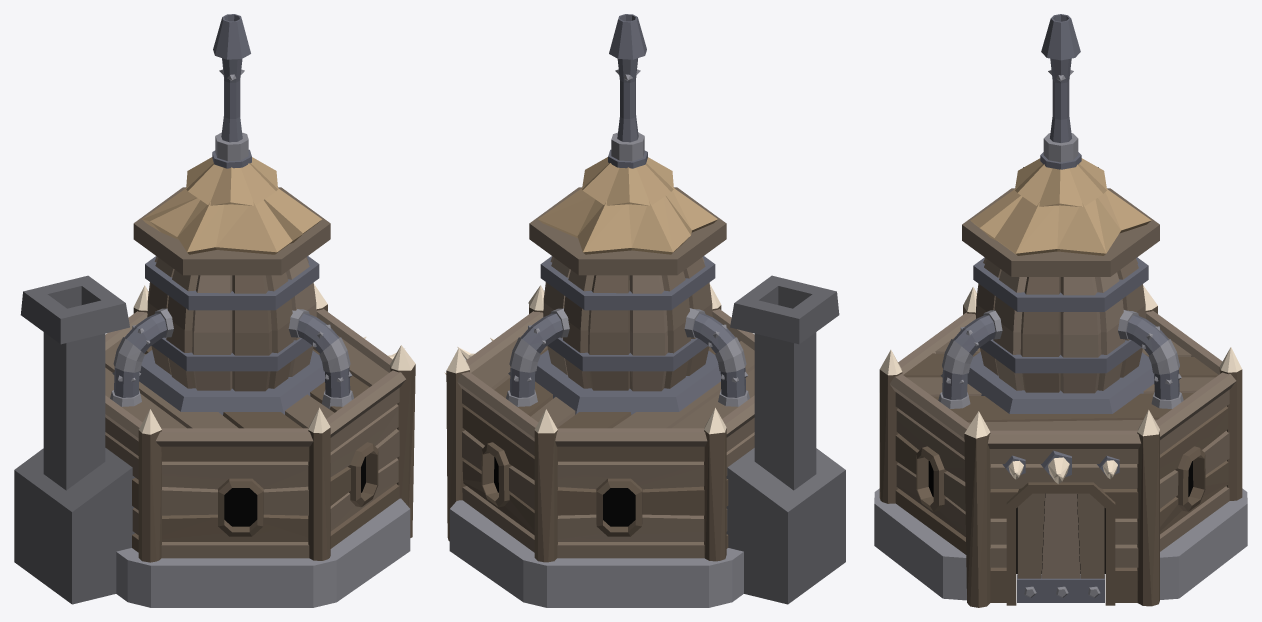
Rendered from alhemisht_house.fbx.
3 views of the same model, side by side, from view 1: azimuth 30°, elevation 25°; view 2: azimuth 150°, elevation 25°; view 3: azimuth 270°, elevation 25° (orthographic).
Parts seen in each view (by area): view 1: alchemist_house; view 2: alchemist_house; view 3: alchemist_house.
Part boxes in pixels (x1,y1,x2,y2): alchemist_house: (14,14,415,607); alchemist_house: (444,14,845,607); alchemist_house: (874,14,1247,607).
Bounding box in the file's own units: 945 × 1290 × 836.
